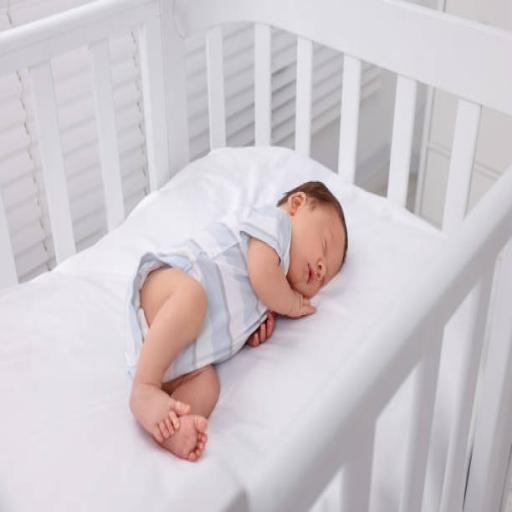baby: (127, 182, 347, 460)
crib: (0, 0, 511, 511)
